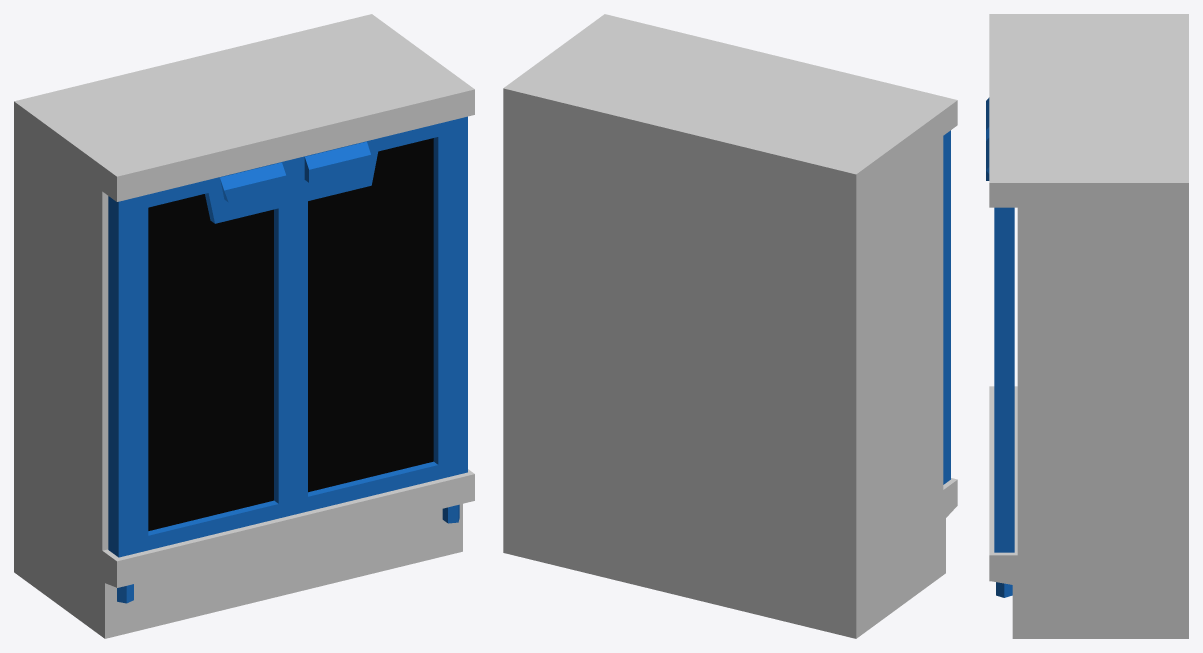
Rendered from SM_mini_fridge.fbx.
3 renders of one model, left to right at view 1: azimuth 30°, elevation 25°; view 2: azimuth 150°, elevation 25°; view 3: azimuth 270°, elevation 25°, orthographic. The views are drawn at different scales.
Visible parts, largest first — view 1: mini_fridge, Cylinder_2, Cylinder; view 2: mini_fridge, Cylinder_2; view 3: mini_fridge, Cylinder.
Boxes of the visible parts, x1,y1,x2,y2 form: mini_fridge: (14,14,474,638); Cylinder_2: (108,159,293,603); Cylinder: (293,116,467,523); mini_fridge: (503,14,957,638); Cylinder_2: (943,130,950,484); mini_fridge: (989,14,1188,638); Cylinder: (986,138,1014,597).
Size of the model in its own units: 70 by 88.01 by 35.47.
